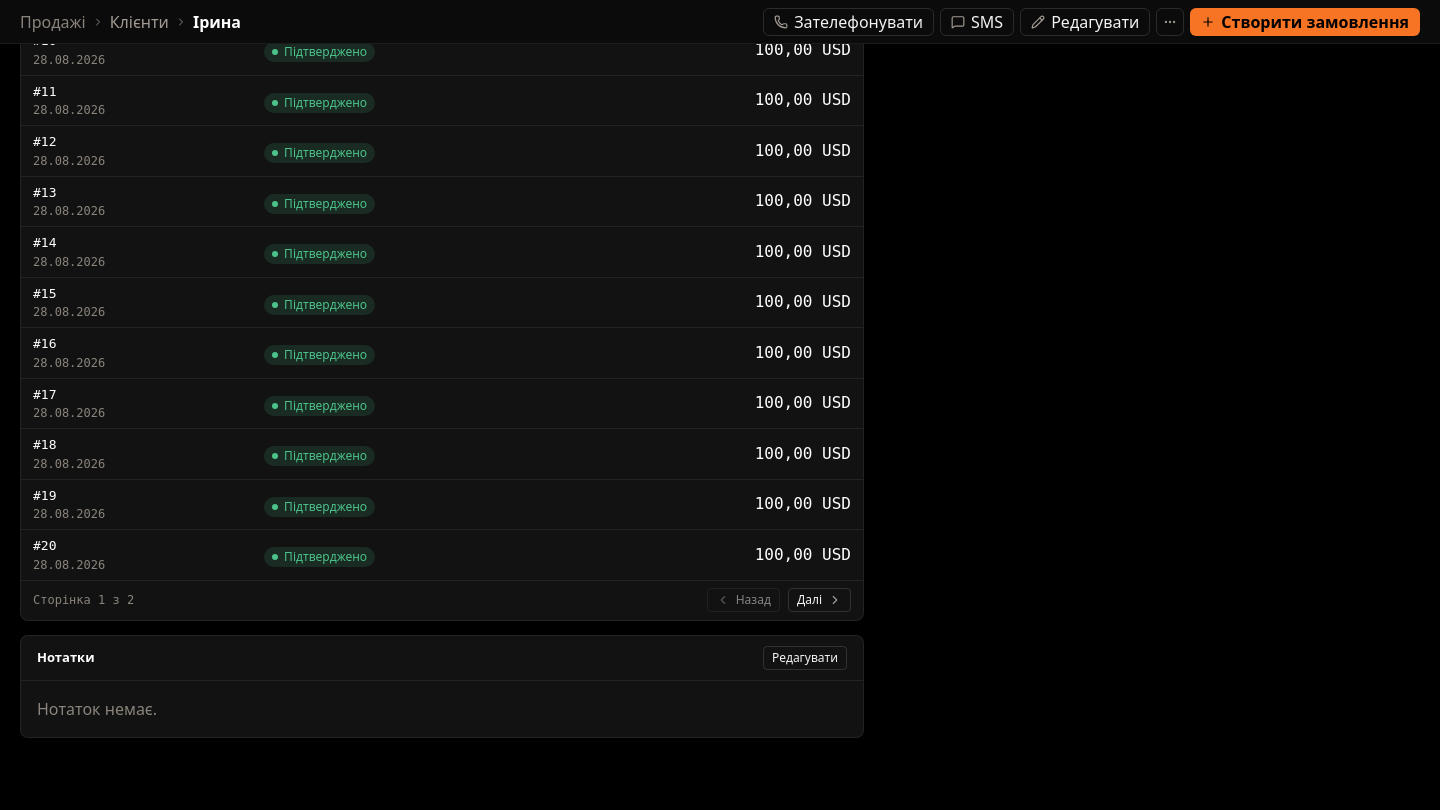
it: paginates a customer order history by 20 orders
This screenshot has width=1440, height=810.
(page scrolled)
Expected: the link "#20" is shown, [33,536,56,556]
Expected: the text "#21" is not shown
Click the button with aria-label "Наступна сторінка" at (819, 600), box [788,588,851,612]
(page scrolled)
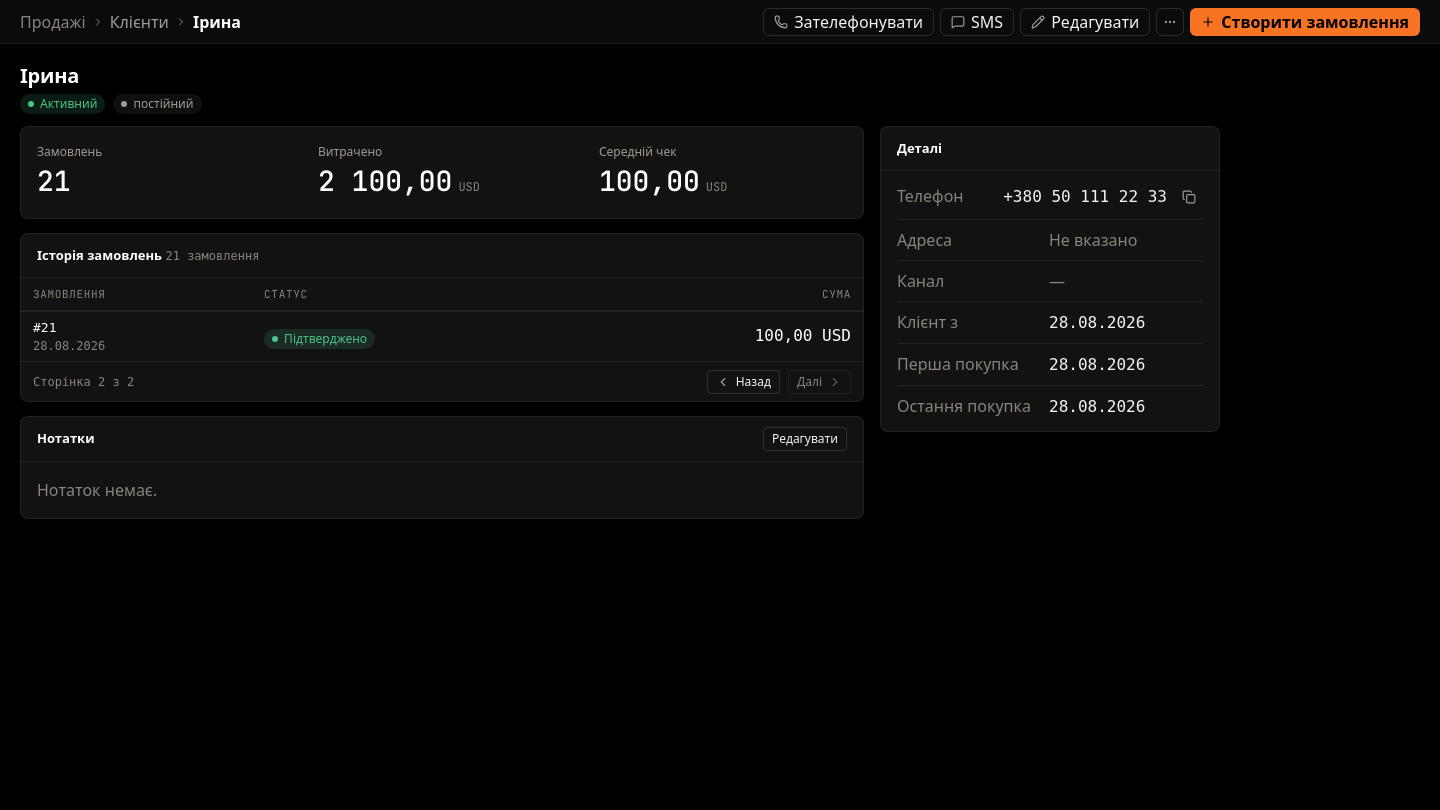
Result: the link "#1" is gone
Result: the link "#21" is shown at [33,318,56,337]
